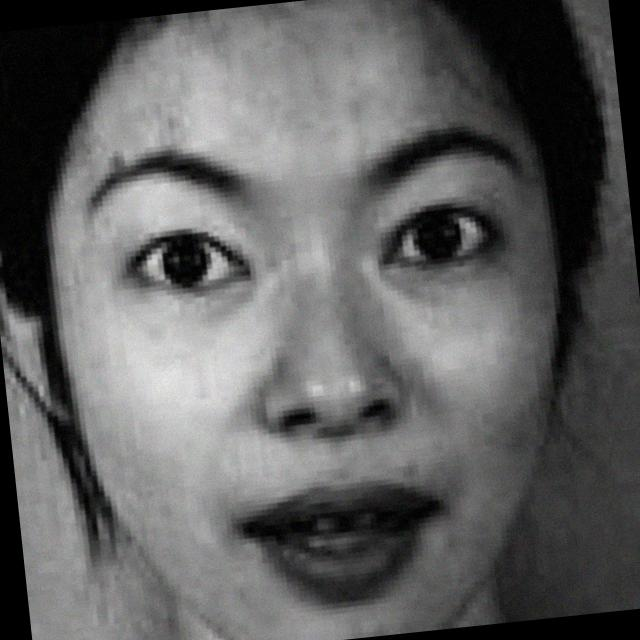surprise: (46, 9, 579, 640)
